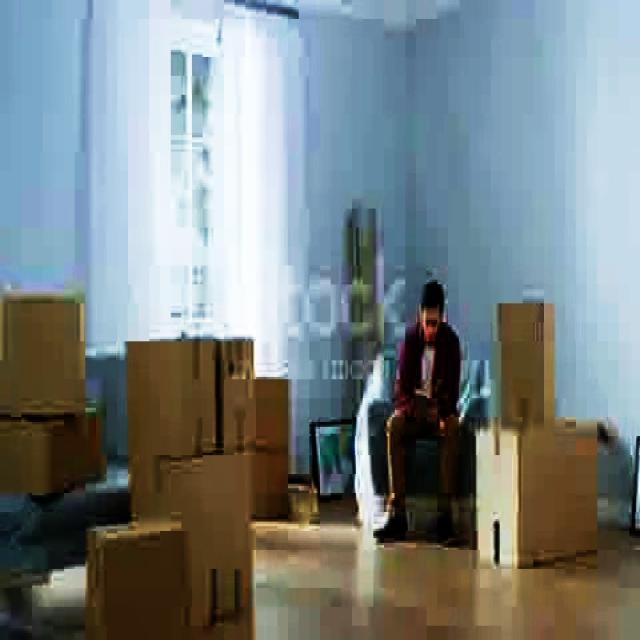Box: (476, 427, 604, 557), (189, 469, 255, 633), (94, 528, 188, 640), (123, 339, 209, 460), (1, 289, 86, 408), (494, 304, 566, 438), (8, 422, 104, 493), (220, 342, 261, 444)
